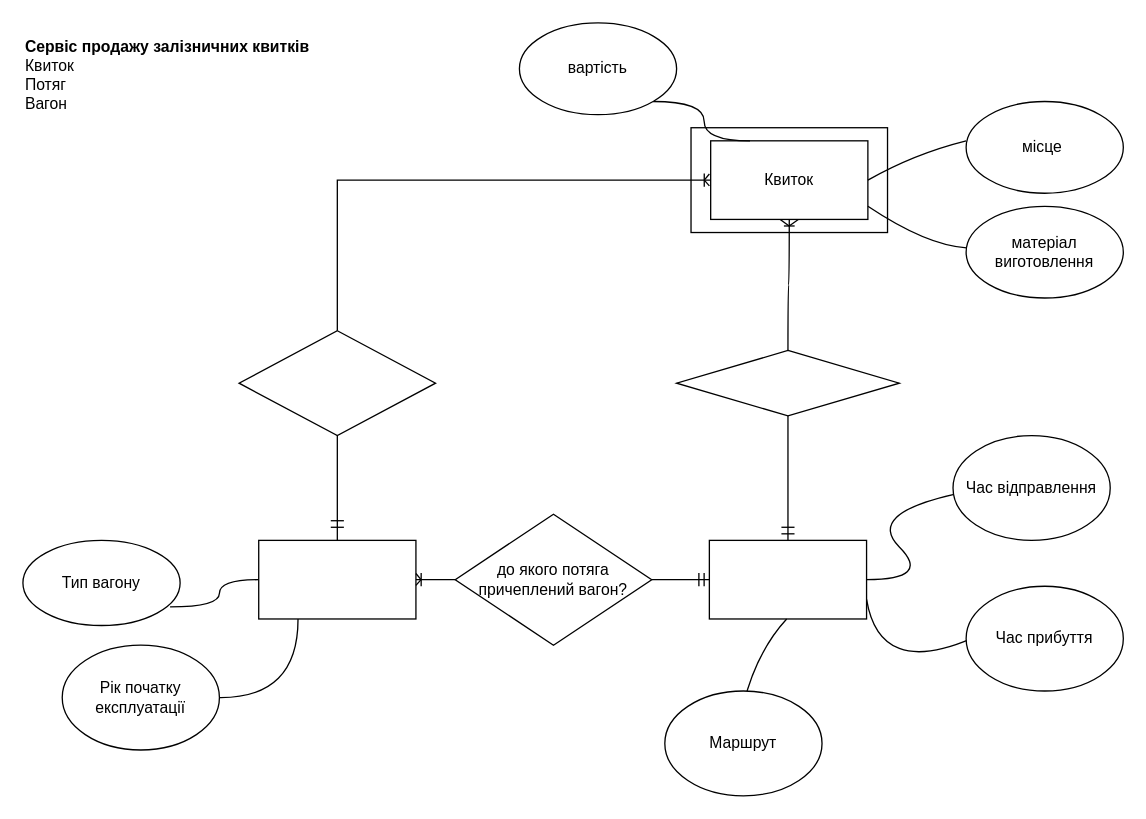
This 1146x819 diagram has some shape labels left out. The shapes that lost their labels are listed below. From the top down, each one's box as (x1, y1, x2, y2) in pixels, then its label:
(238, 329, 436, 436): на який саме вагон квиток?
(675, 349, 899, 416): на що саме квиток?
(257, 539, 416, 619): Вагон
(708, 539, 867, 619): Потяг
